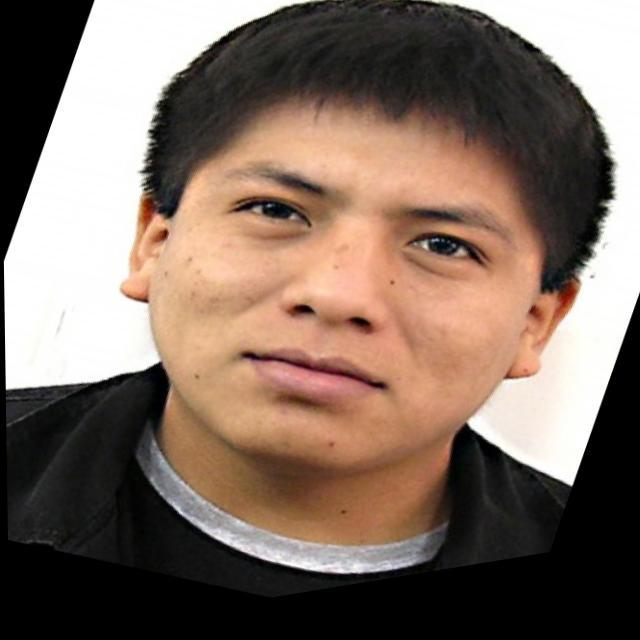Nonhelmet: (118, 2, 596, 485)
